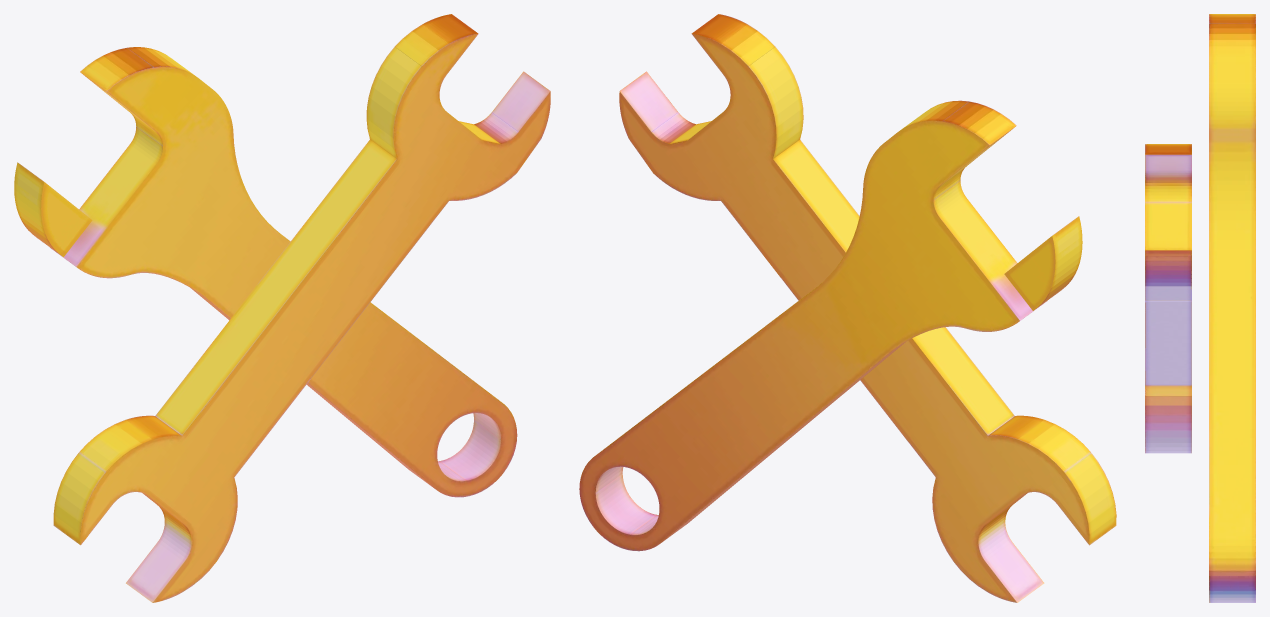
File: INCONOGRAPHY_support_v8.glb
3 views of the same model, side by side, from view 1: azimuth 30°, elevation 25°; view 2: azimuth 150°, elevation 25°; view 3: azimuth 270°, elevation 25° (orthographic). The views are drawn at different scales.
Visible parts, largest first — view 1: spanner, spanner_3; view 2: spanner, spanner_3; view 3: spanner.
Boxes of the visible parts, x1=… form: spanner: x1=50, y1=14, x2=550, y2=602; spanner_3: x1=14, y1=162, x2=92, y2=257; spanner: x1=579, y1=14, x2=1116, y2=602; spanner_3: x1=1004, y1=216, x2=1082, y2=310; spanner: x1=1145, y1=14, x2=1255, y2=602.
Size of the model in its own units: 0.9275 by 0.9418 by 0.2149.
10 materials, 9 textured.
